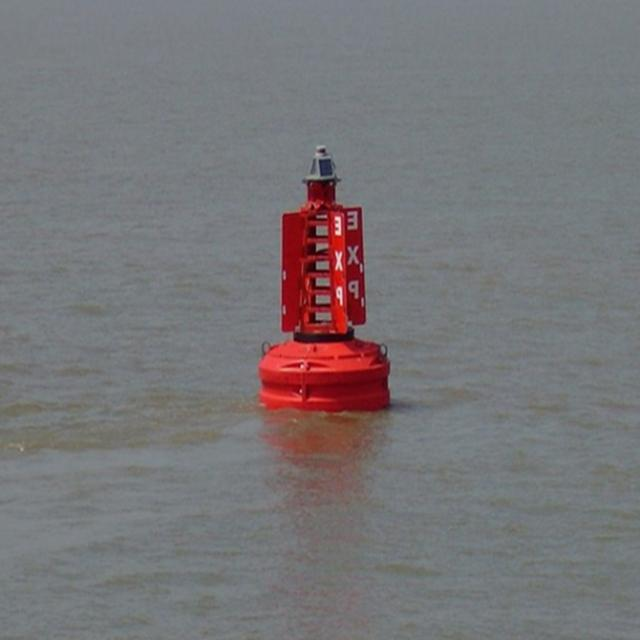buoy: (246, 138, 403, 414)
